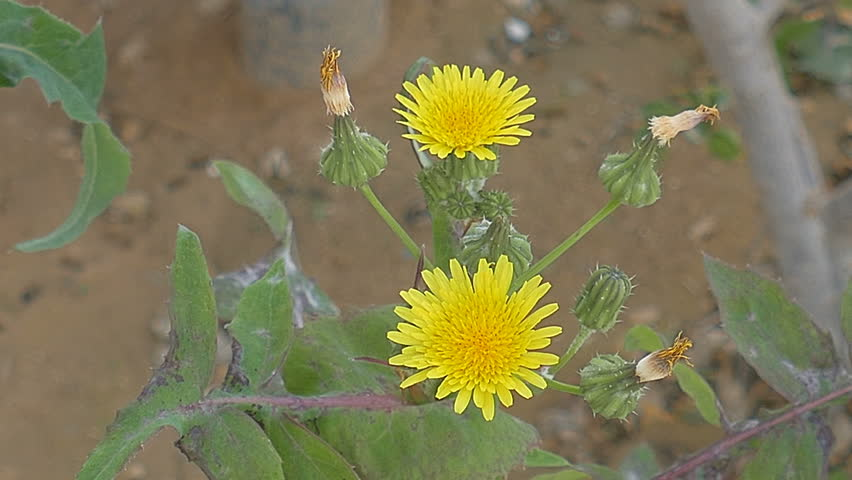dandelion: (398, 257, 556, 418), (388, 58, 541, 161)
